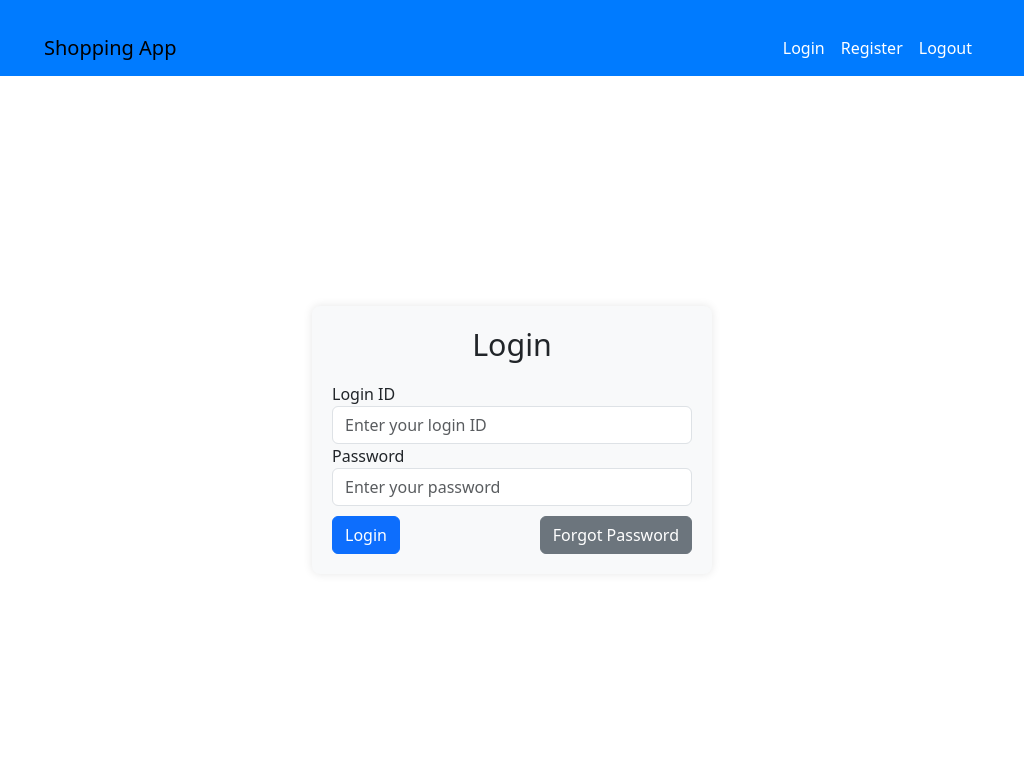
Scenario: Login Page › should display error when login ID is empty
Step 1. Click the submit button → click(366, 535), box [332,516,400,554]
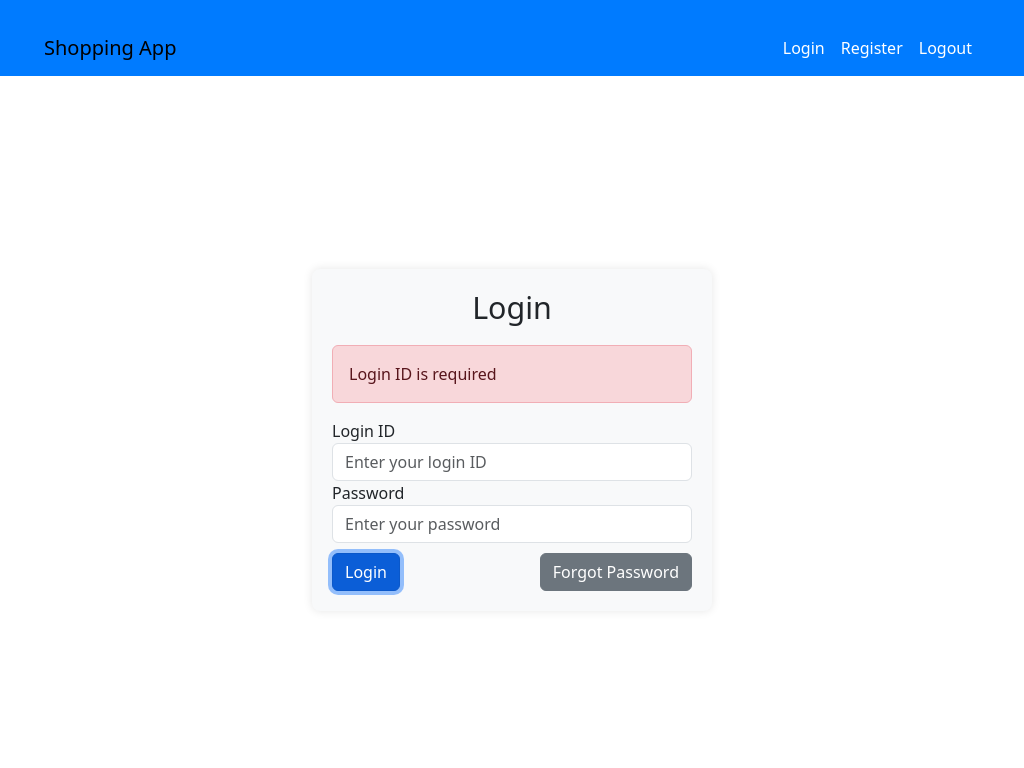
Expected: the text with class "alert-danger" reads "Login ID is required", [349,363,497,385]
